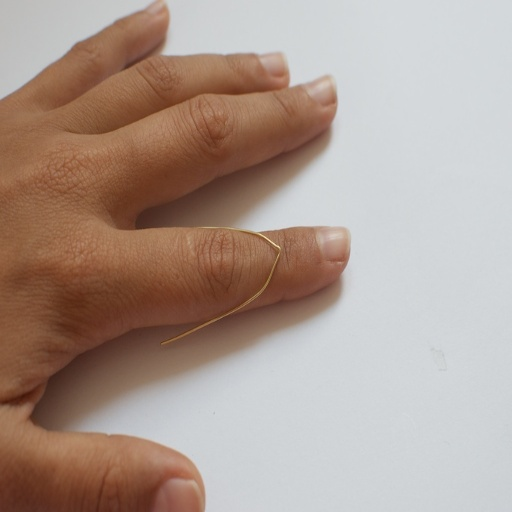hand: (0, 0, 352, 510)
